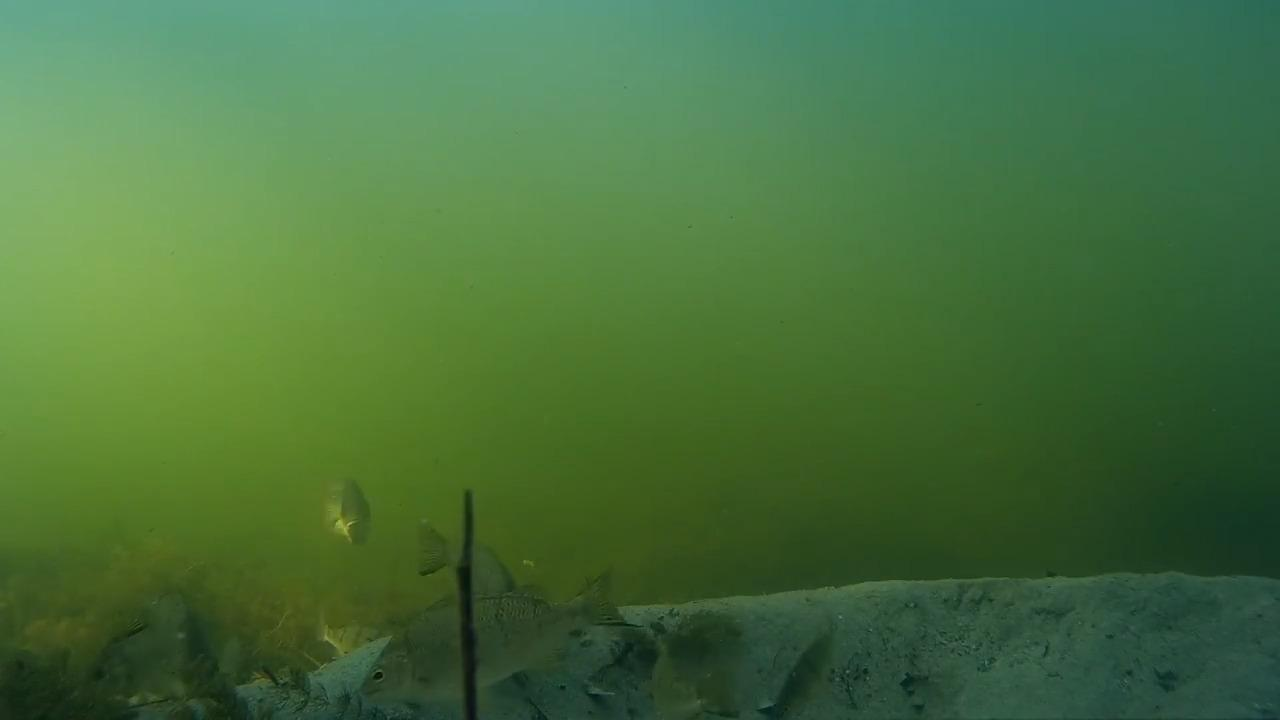Tilapia: (349, 592, 626, 704), (81, 594, 194, 710), (407, 508, 508, 600), (309, 460, 380, 556)
